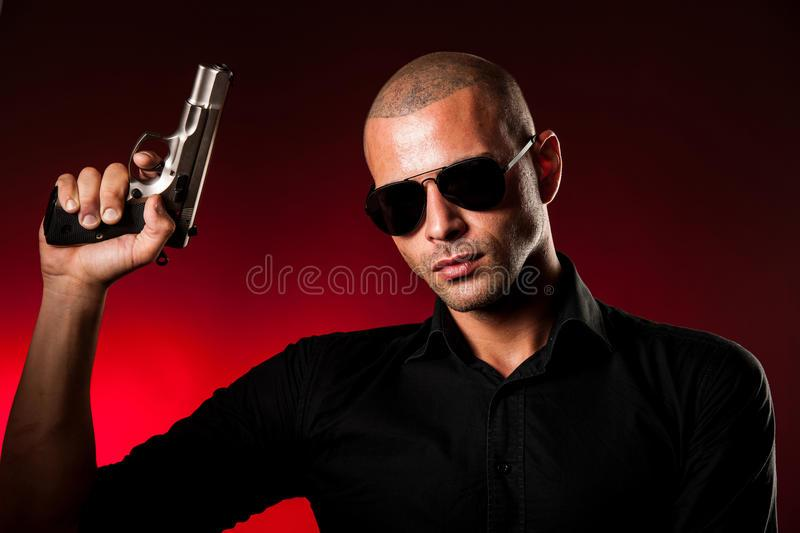criminal: (0, 45, 785, 533)
weapon: (40, 59, 239, 269)
